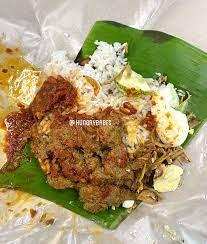Anchovies: (138, 131, 189, 194)
Boiled-Egg: (156, 103, 189, 147), (153, 165, 184, 193)
Cucumber: (115, 64, 152, 96)
Peanuts: (140, 111, 154, 129), (120, 102, 138, 116), (79, 58, 89, 66)
Rendang-Chicken: (4, 76, 146, 214)
Rice: (43, 41, 151, 145)
